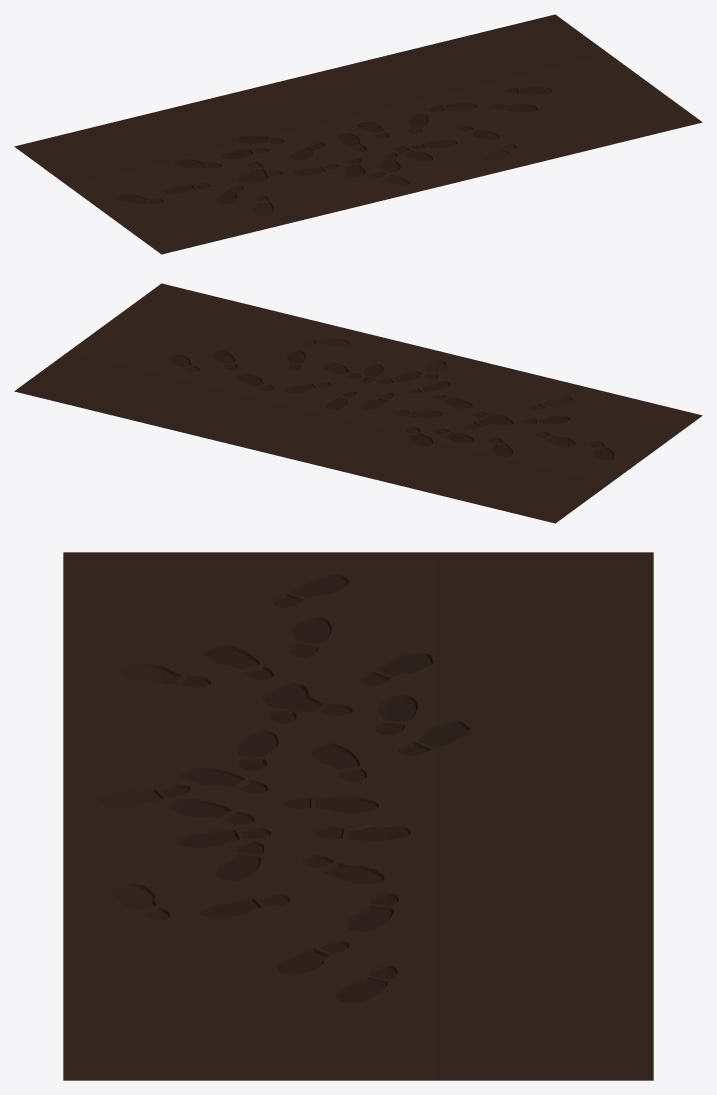
File: SM_groundFootprints.fbx
3 renders of one model, top to bottom at view 1: azimuth 30°, elevation 25°; view 2: azimuth 150°, elevation 25°; view 3: azimuth 270°, elevation 25°, orthographic. The views are drawn at different scales.
Parts seen in each view (by area): view 1: SM_groundFootprints; view 2: SM_groundFootprints; view 3: SM_groundFootprints.
Part boxes in pixels (x1,y1,x2,y2): SM_groundFootprints: [14, 14, 702, 254]; SM_groundFootprints: [14, 283, 702, 523]; SM_groundFootprints: [63, 552, 653, 1080].
Size of the model in its own units: 575 by 1.05 by 271.
